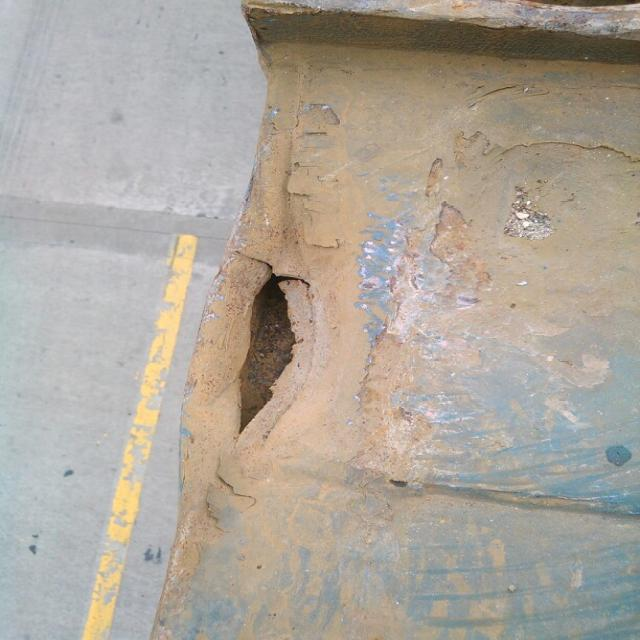hole: (196, 255, 327, 463)
